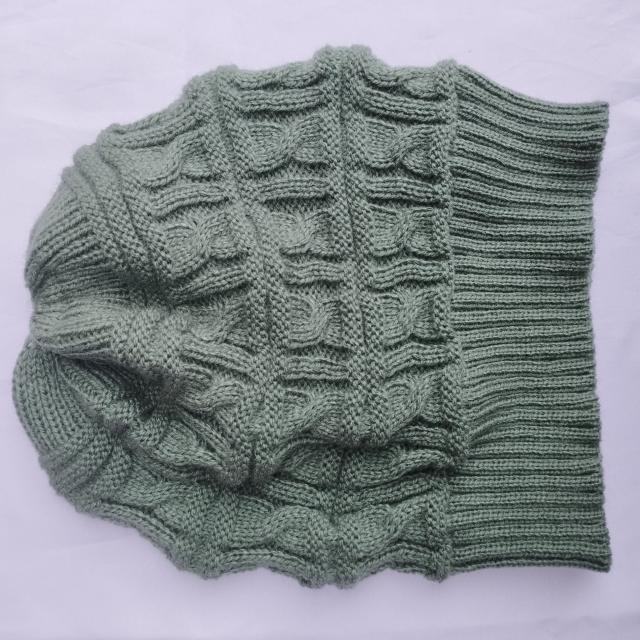Gorro: (12, 43, 613, 589)
